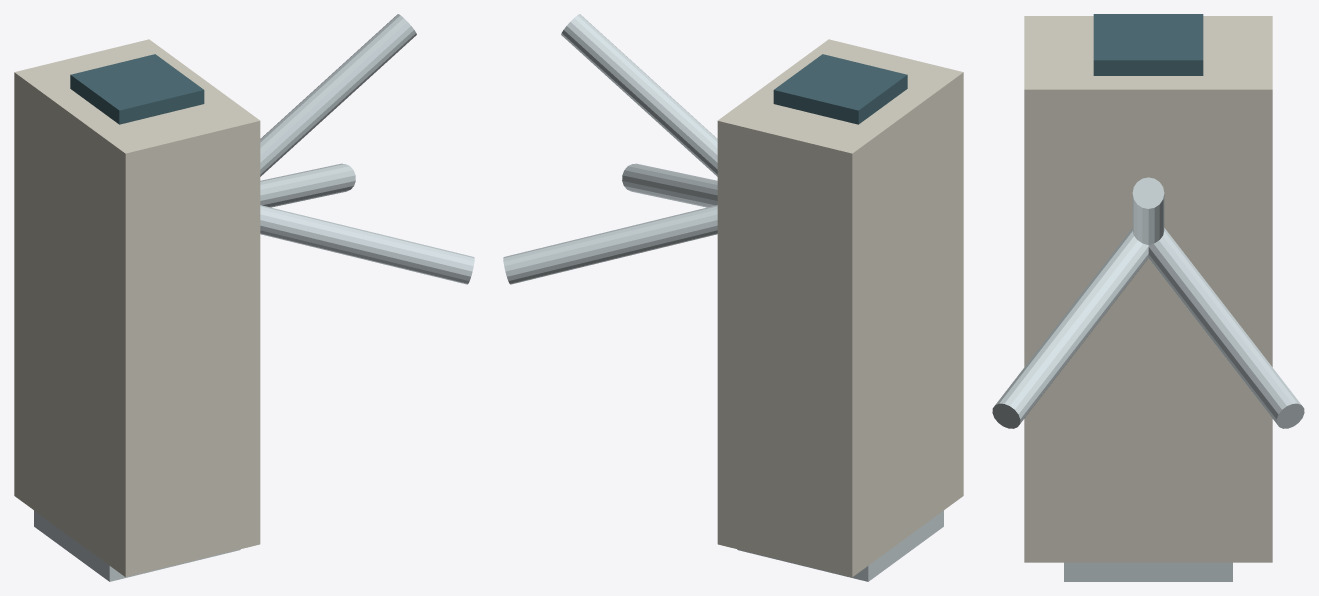
The model's file is waterpark-and-pool-operations-waterpark-and-pool-opera-aa4d199a__28972.glb.
The picture shows the model from 3 angles, left to right: view 1: azimuth 30°, elevation 25°; view 2: azimuth 150°, elevation 25°; view 3: azimuth 270°, elevation 25°; orthographic projection. The views are drawn at different scales.
Parts seen in each view (by area): view 1: waterpark-and-pool-operations-ticket-turnstile; view 2: waterpark-and-pool-operations-ticket-turnstile; view 3: waterpark-and-pool-operations-ticket-turnstile.
Part boxes in pixels (left/top/right/bottom): waterpark-and-pool-operations-ticket-turnstile: left=14, top=14, right=474, bottom=581; waterpark-and-pool-operations-ticket-turnstile: left=503, top=14, right=963, bottom=581; waterpark-and-pool-operations-ticket-turnstile: left=992, top=14, right=1304, bottom=581.
Size of the model in its own units: 0.8921 by 1.14 by 0.6277.
